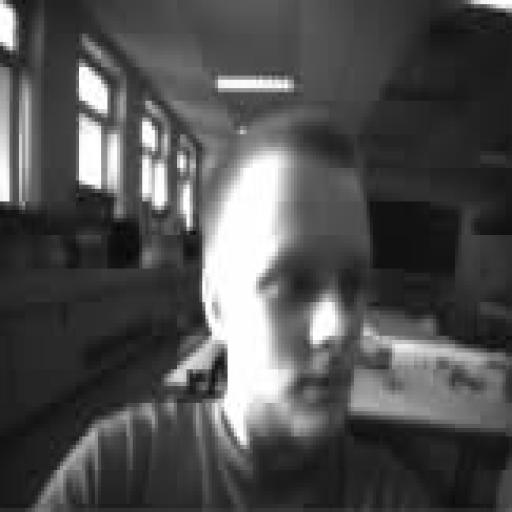human: (35, 110, 432, 511)
